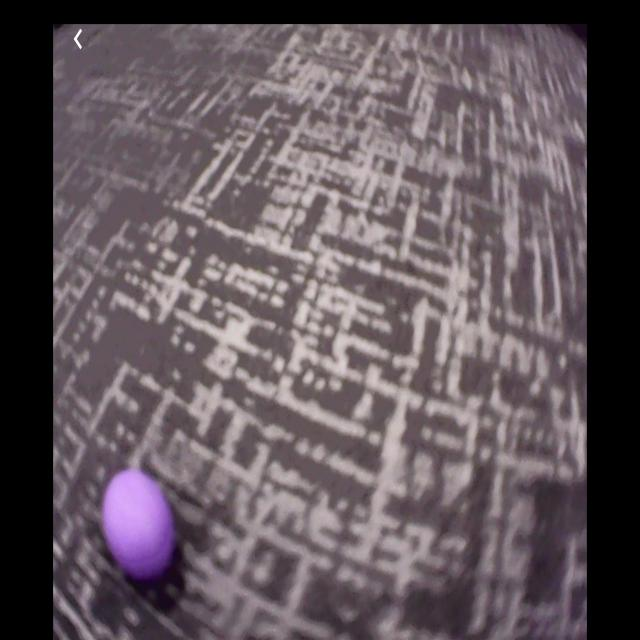ball: (103, 471, 175, 582)
